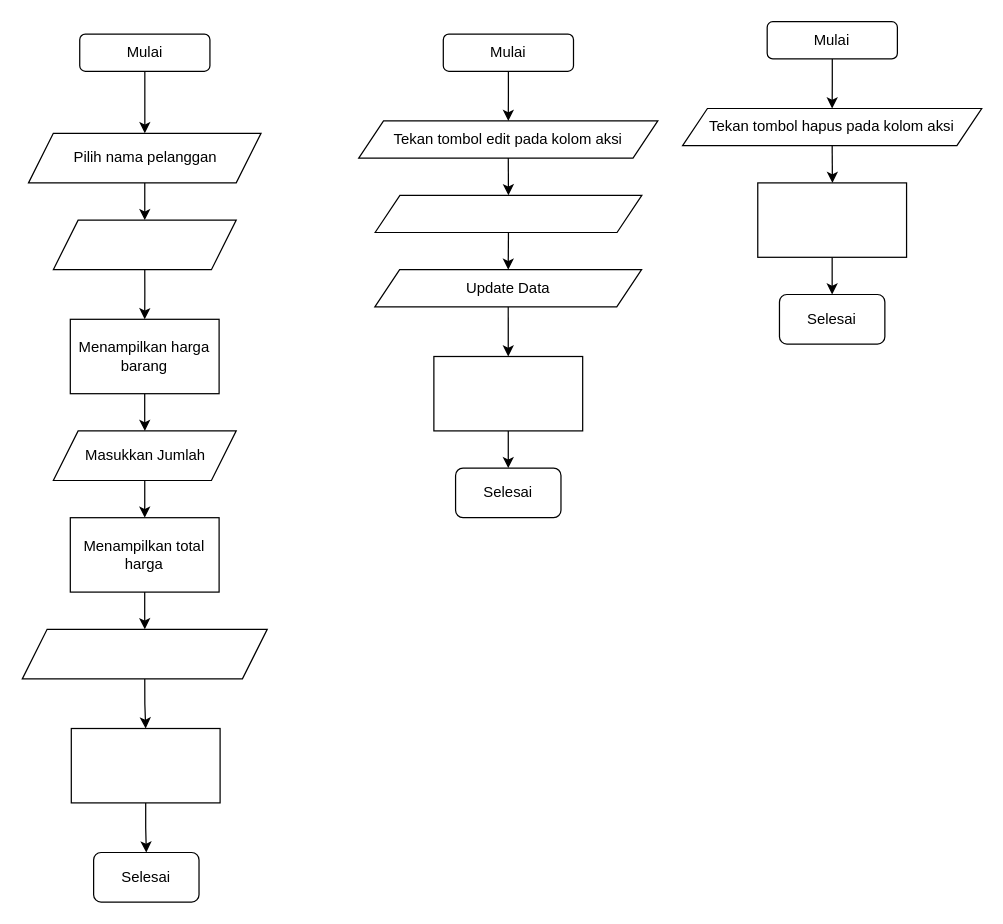
The diagram is 1003 pixels wide and 924 high, and some of its shapes have lost their labels. The centre of each missing label's shape, as x and y in pixels:
Data di update di database dan tabel: point 508,393
Data terhapus dari database dan tabel: point 832,219
Menampilkan data transaksi: point 145,765
Pilih jenis laundry: point 144,244
Simpan data ke database: point 144,653
Ubah data yang ingin diperbaiki: point 508,213
